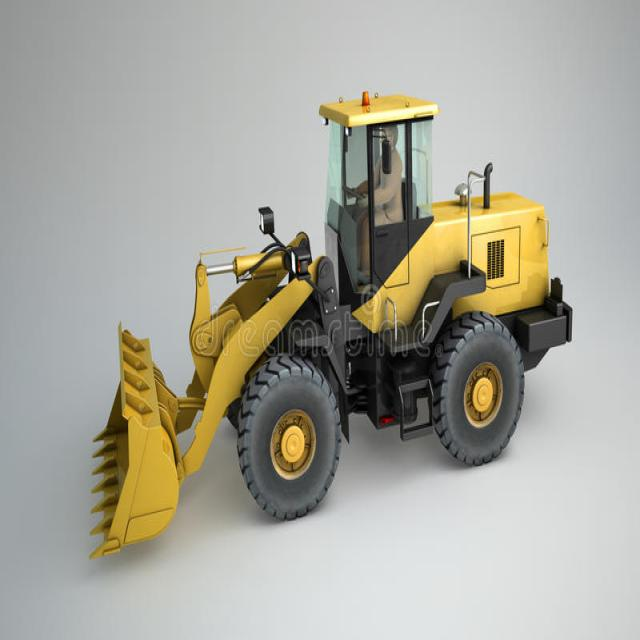buldozerpayloadergrader: (90, 86, 574, 555)
